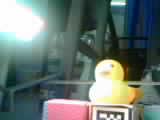duck: (83, 55, 132, 99)
